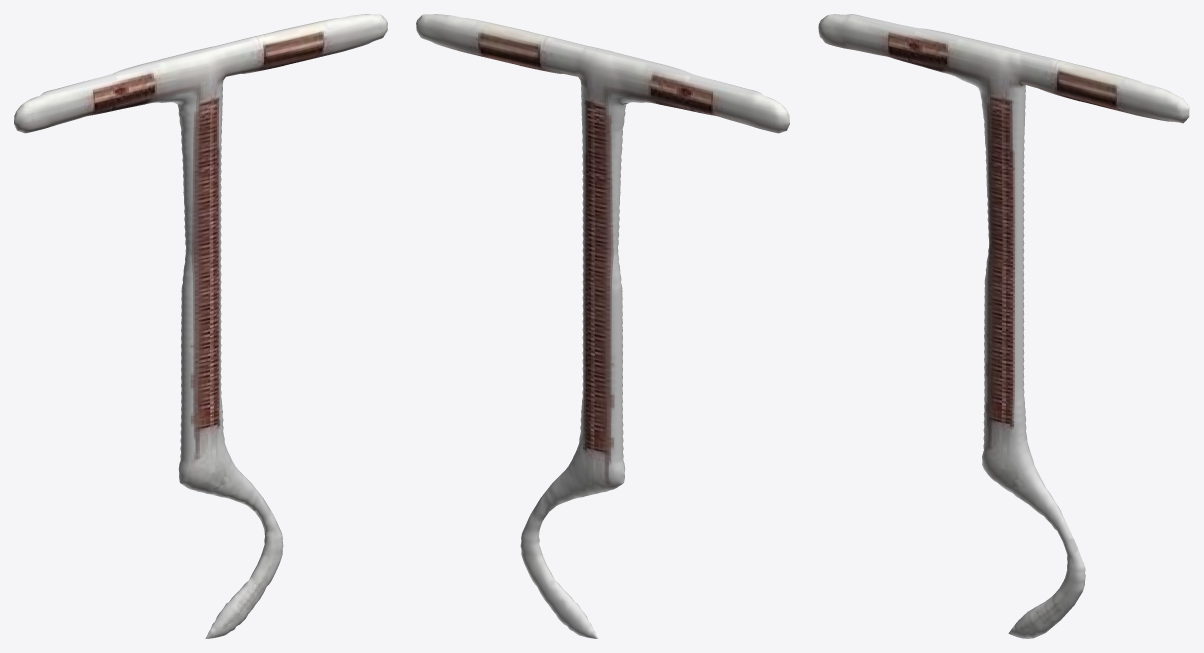
Rendered from iud-alt.glb.
The picture shows the model from 3 angles, left to right: view 1: azimuth 30°, elevation 25°; view 2: azimuth 150°, elevation 25°; view 3: azimuth 330°, elevation 25°; orthographic projection.
Visible parts, largest first — view 1: Object_5; view 2: Object_5; view 3: Object_5.
Part boxes in pixels (<box>): Object_5: <box>14,14,387,638</box>; Object_5: <box>416,14,789,638</box>; Object_5: <box>818,14,1189,638</box>.
Size of the model in its own units: 0.1868 by 0.2826 by 0.0119.
Materials: 1 (1 with a texture image).
